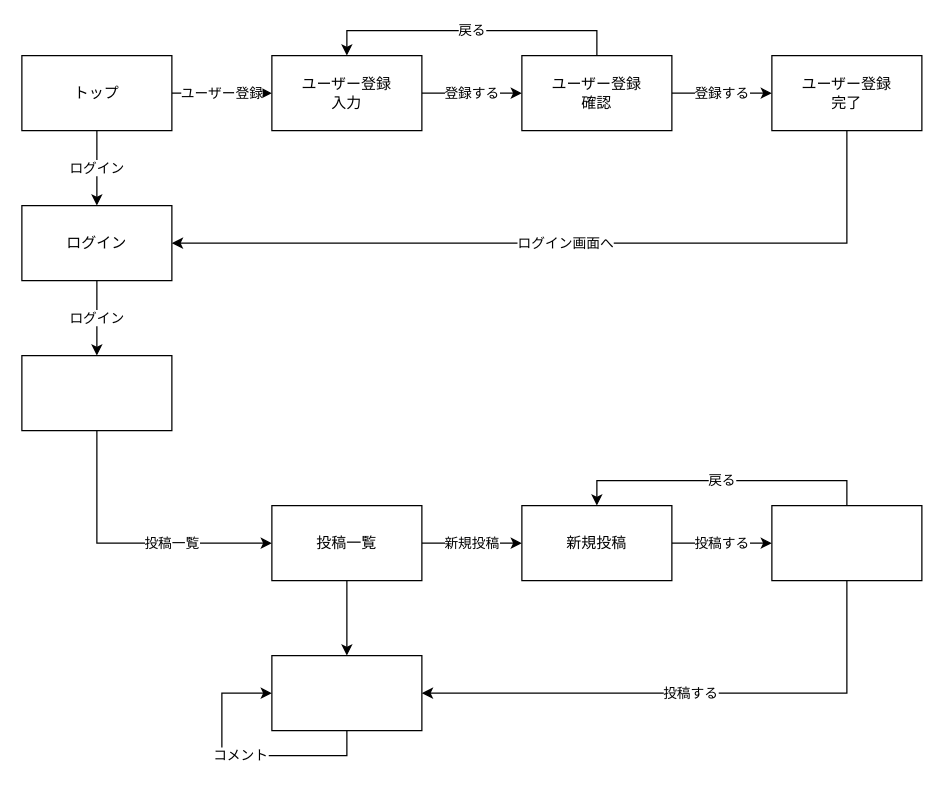
This 944x788 diagram has some shape labels left out. Each missing label, with the centre of its shape:
"メニュー" goes at [96,392].
"投稿ページ" goes at [346,692].
"投稿確認" goes at [846,542].
